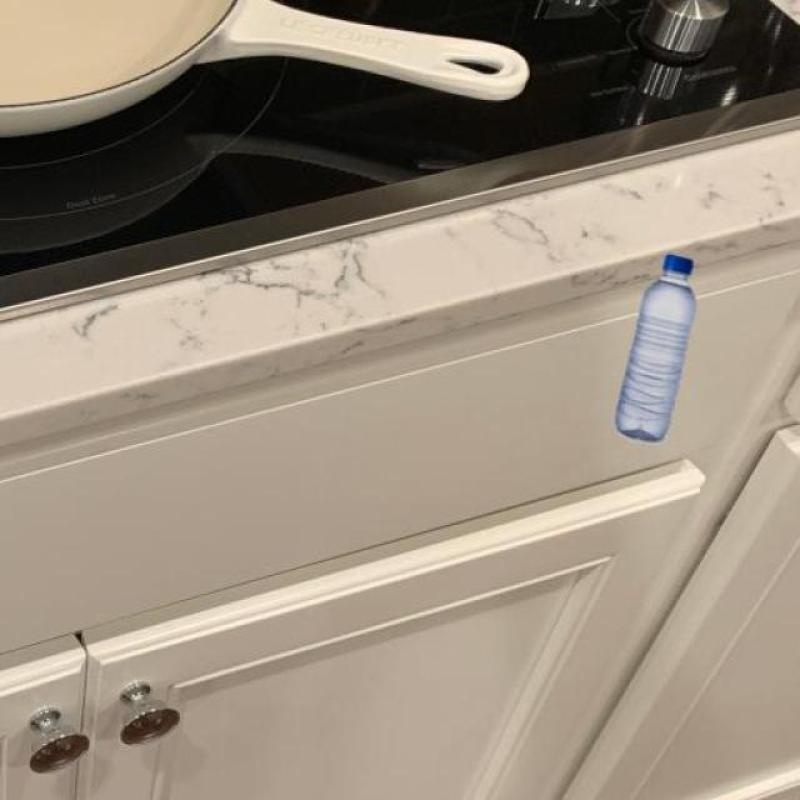botella: (615, 254, 696, 440)
